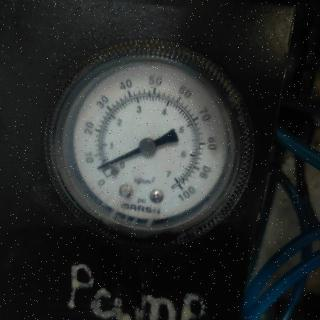gauge: (16, 4, 270, 288), (97, 156, 123, 184), (166, 172, 190, 198), (138, 136, 158, 158), (94, 162, 106, 174)
